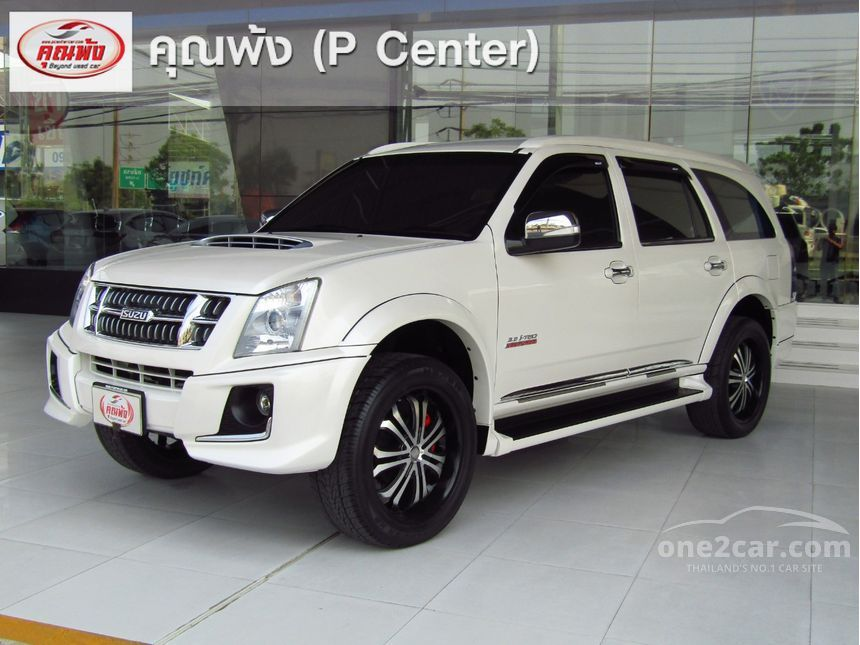pickup: (40, 133, 798, 549)
